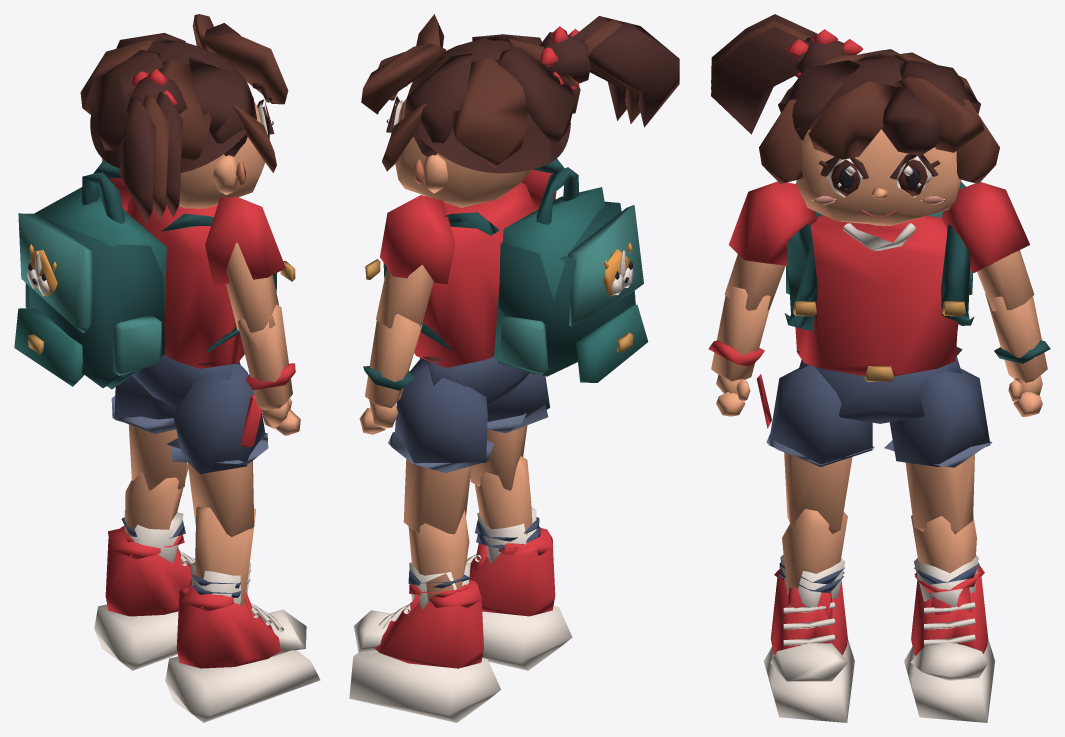
The model's file is char.survivor-female.lod1.glb.
3 views of the same model, side by side, from view 1: azimuth 30°, elevation 25°; view 2: azimuth 150°, elevation 25°; view 3: azimuth 270°, elevation 25° (orthographic).
Parts seen in each view (by area): view 1: head, footR, torso, legR, backpackSocket.pal_tealDark, footL, backpackSocket.pal_tealLight, armR, backpackSocket.pal_backpackTeal, legL, shinR, shinL (+4 smaller); view 2: head, footL, legL, torso, footR, backpackSocket.pal_tealDark, backpackSocket.pal_backpackTeal, armL, backpackSocket.pal_tealLight, legR, shinR, shinL (+5 smaller); view 3: head, torso, legL, legR, footR, footL, armL, armR, hip, shinR, shinL, foreArmR (+3 smaller).
Part boxes in pixels (x1,y1,x2,y2): head: [80, 14, 288, 223]; footR: [165, 580, 320, 722]; torso: [93, 160, 295, 368]; legR: [167, 364, 268, 536]; backpackSocket.pal_tealDark: [28, 171, 165, 387]; footL: [94, 528, 195, 670]; backpackSocket.pal_tealLight: [18, 213, 161, 375]; armR: [205, 197, 285, 332]; backpackSocket.pal_backpackTeal: [14, 187, 166, 389]; legL: [111, 375, 186, 490]; shinR: [190, 506, 256, 606]; shinL: [120, 463, 188, 563]; head: [361, 14, 679, 207]; footL: [349, 580, 500, 722]; legL: [388, 359, 493, 534]; torso: [365, 158, 564, 367]; footR: [466, 528, 572, 670]; backpackSocket.pal_tealDark: [498, 167, 635, 376]; backpackSocket.pal_backpackTeal: [494, 187, 648, 382]; armL: [376, 195, 455, 328]; backpackSocket.pal_tealLight: [499, 205, 643, 374]; legR: [470, 373, 549, 490]; shinR: [475, 456, 540, 563]; shinL: [408, 510, 470, 609]; head: [711, 14, 999, 225]; torso: [784, 181, 974, 376]; legL: [884, 368, 992, 534]; legR: [766, 365, 874, 533]; footR: [764, 568, 854, 722]; footL: [904, 564, 995, 722]; armL: [941, 182, 1034, 311]; armR: [724, 181, 817, 310]; hip: [756, 347, 962, 428]; shinR: [778, 509, 847, 607]; shinL: [911, 515, 979, 607]; foreArmR: [708, 286, 770, 381].
Size of the model in its own units: 0.6173 by 1.59 by 0.7792.
